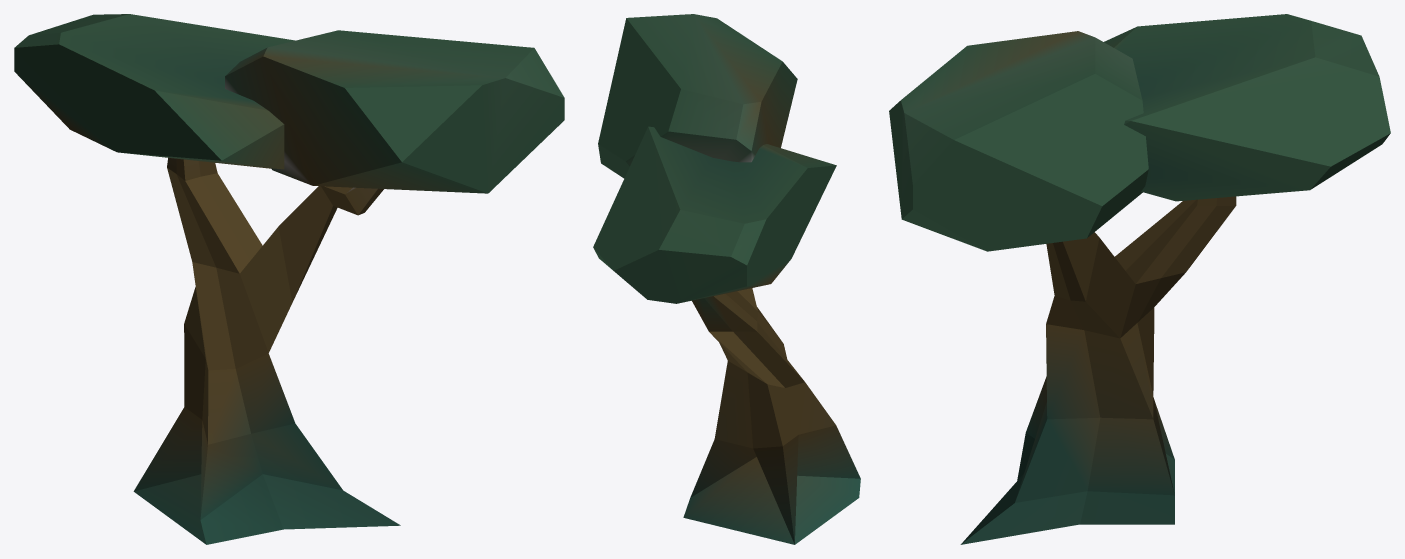
The model's file is tree_3.fbx.
3 views of the same model, side by side, from view 1: azimuth 30°, elevation 25°; view 2: azimuth 150°, elevation 25°; view 3: azimuth 270°, elevation 25° (orthographic). The views are drawn at different scales.
Parts seen in each view (by area): view 1: Cube.474; view 2: Cube.474; view 3: Cube.474.
Part boxes in pixels (left/top/right/bottom): Cube.474: left=14, top=14, right=564, bottom=544; Cube.474: left=593, top=14, right=860, bottom=544; Cube.474: left=889, top=14, right=1390, bottom=544.
Bounding box in the file's own units: 785 × 991 × 955.
